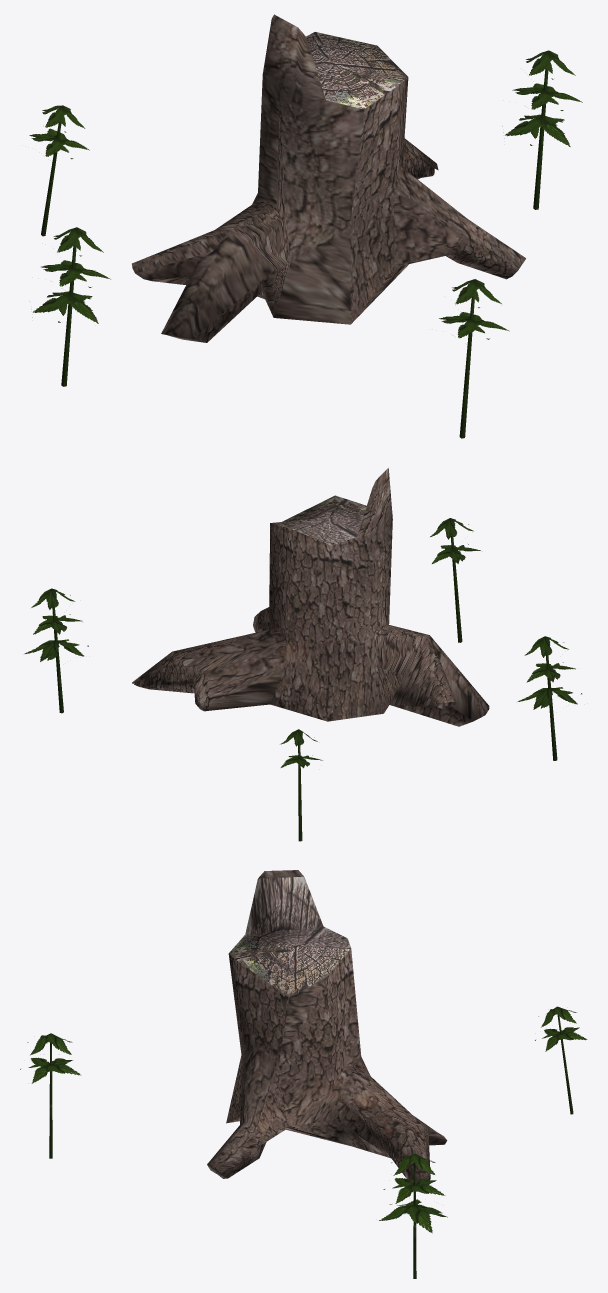
The model's file is stump2.dae.
The picture shows the model from 3 angles, top to bottom: view 1: azimuth 30°, elevation 25°; view 2: azimuth 150°, elevation 25°; view 3: azimuth 270°, elevation 25°; orthographic projection. The views are drawn at different scales.
Visible parts, largest first — view 1: Cylinder_Materialstum; view 2: Cylinder_Materialstum; view 3: Cylinder_Materialstum.
Boxes of the visible parts, x1,y1,x2,y2 form: Cylinder_Materialstum: (29,14,582,438); Cylinder_Materialstum: (24,468,581,841); Cylinder_Materialstum: (20,870,587,1278).
Bounding box in the file's own units: 3.44 × 3.21 × 1.67.
2 materials, 2 textured.
